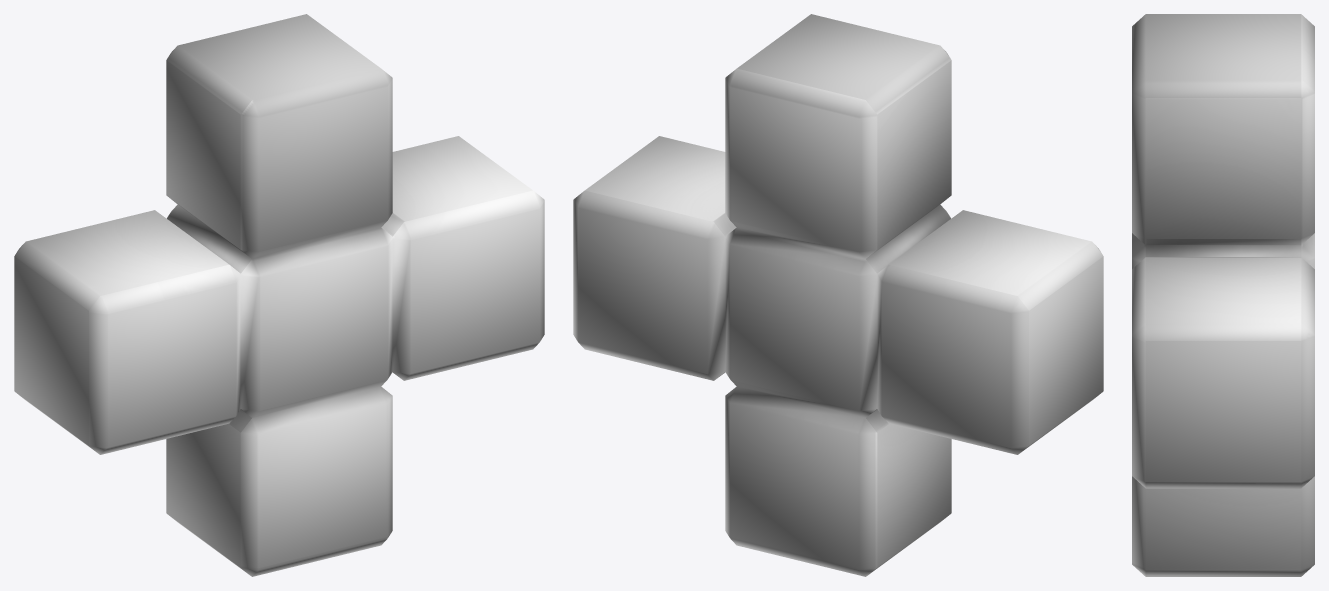
The picture shows the model from 3 angles, left to right: view 1: azimuth 30°, elevation 25°; view 2: azimuth 150°, elevation 25°; view 3: azimuth 270°, elevation 25°; orthographic projection. The views are drawn at different scales.
Visible parts, largest first — view 1: X-shape; view 2: X-shape; view 3: X-shape.
Part boxes in pixels (bbox=[...]): X-shape: bbox=[14, 14, 544, 576]; X-shape: bbox=[573, 14, 1103, 576]; X-shape: bbox=[1132, 14, 1314, 576].
Bounding box in the file's own units: 3 × 3 × 1.
1 material, 1 textured.
